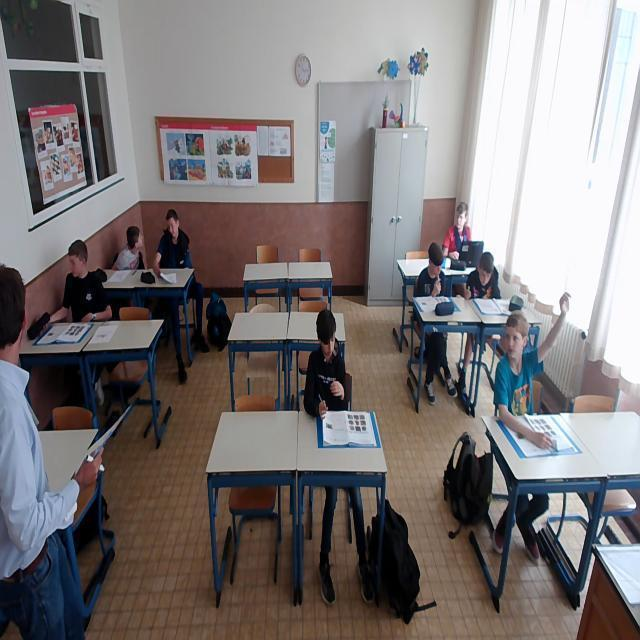Looking away: (125, 224, 145, 254), (68, 251, 86, 278), (166, 216, 182, 238)
Raising hand: (499, 290, 572, 455)
Reading-writing: (300, 309, 380, 451), (464, 251, 520, 314), (413, 244, 459, 315)
